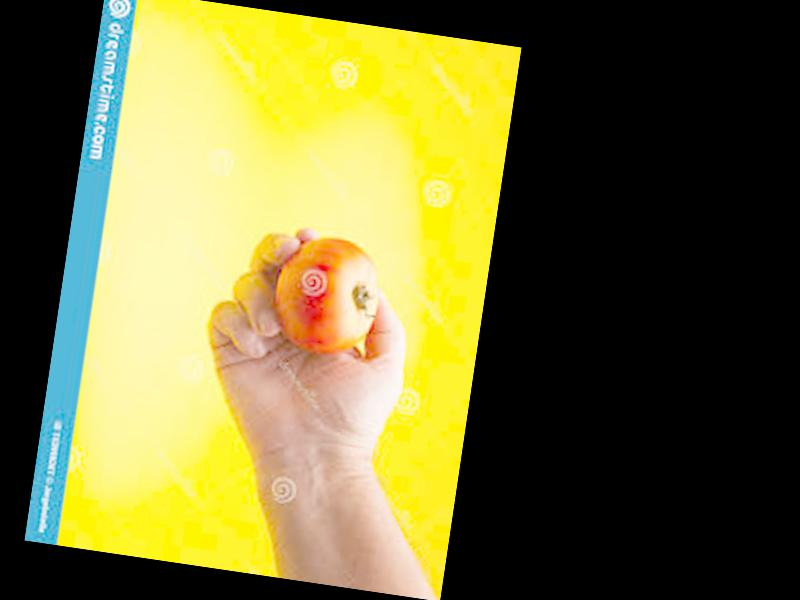Tomato: (268, 231, 385, 359)
